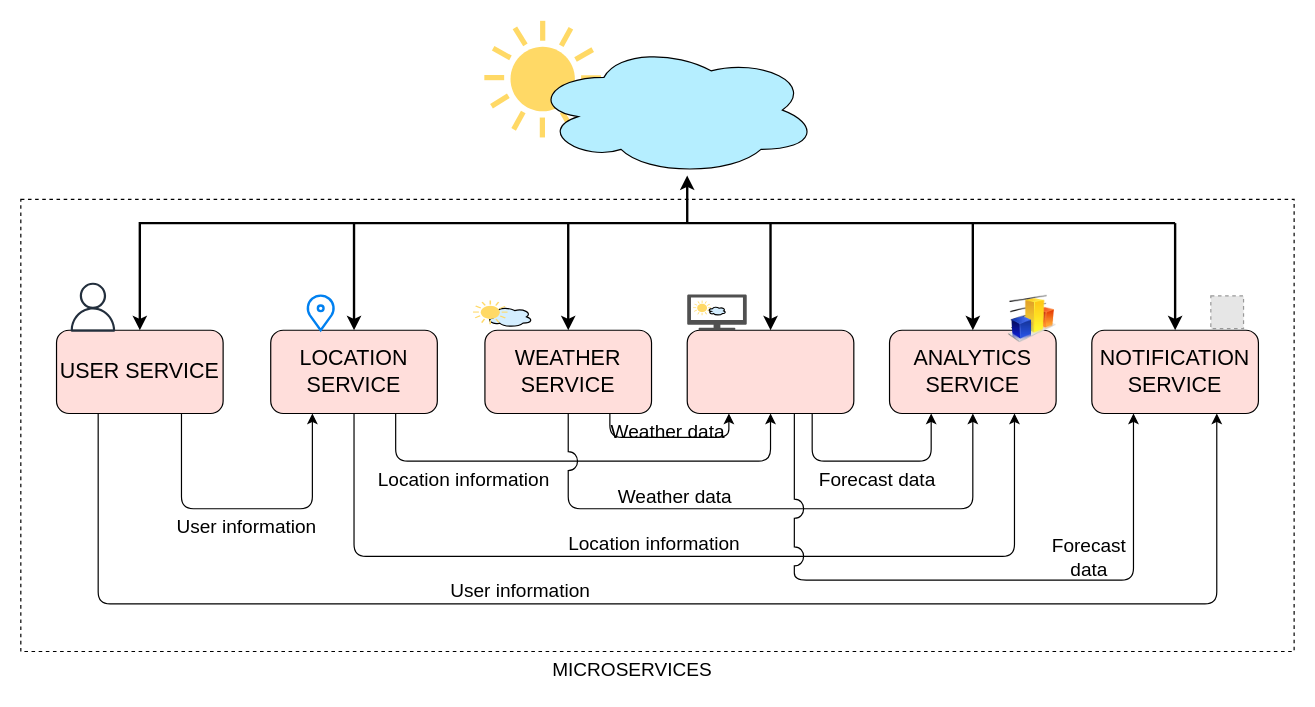
Some shapes in this 1315 by 707 pixel diagram are drawn without their labels. Grey dashed boxes stand in for pictures. The shapes that lost their labels are listed below. From the top down, each one's centre as x and y in pixels, then its label:
At point (674, 109): "WEATHER APPLICATION".
At point (770, 371): "FORECASTING SERVICE".
